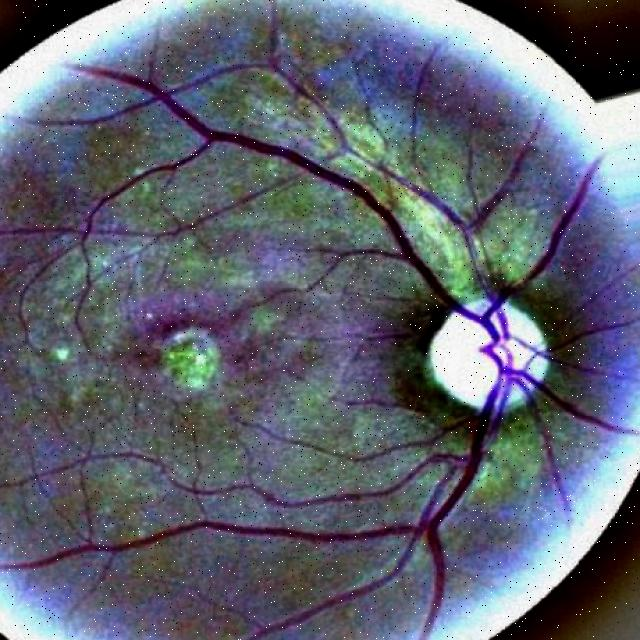Macula: (156, 327, 220, 392)
Nerves: (0, 67, 639, 640), (327, 150, 506, 263)
Optic Disk: (426, 301, 547, 410)
